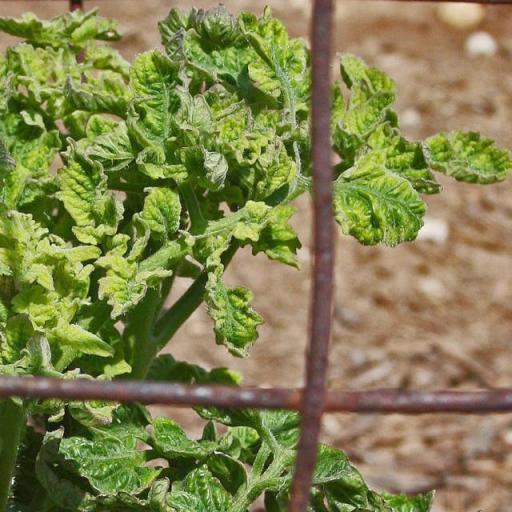disease_tomato: (326, 164, 430, 250), (58, 138, 122, 262), (234, 12, 306, 115), (128, 48, 192, 156), (332, 48, 398, 146), (199, 270, 265, 362), (422, 123, 510, 187), (224, 198, 302, 266), (139, 186, 197, 244)
